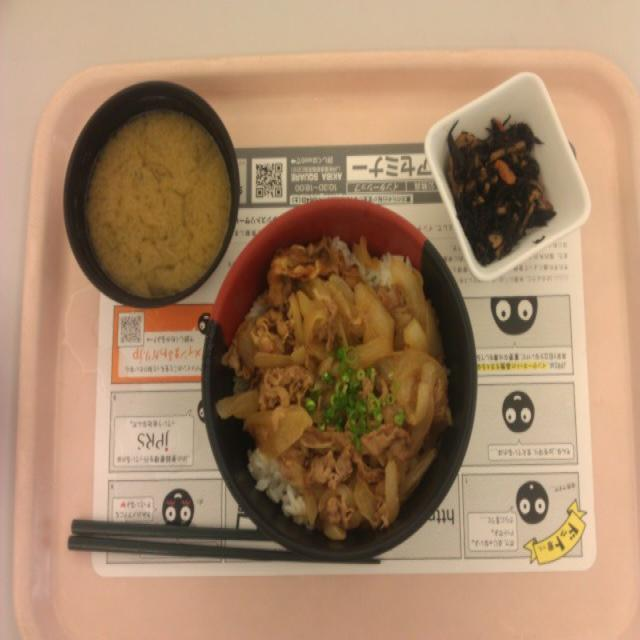汤锅炖物: (54, 75, 244, 317)
